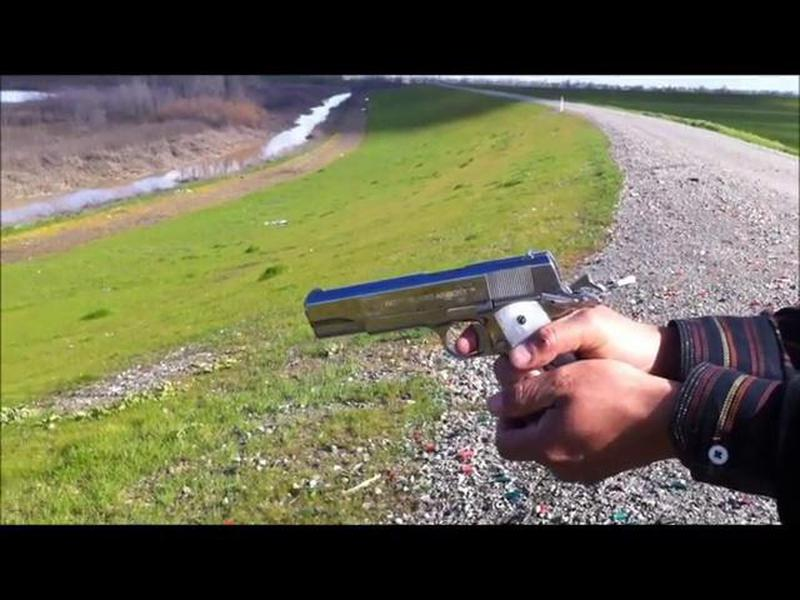Pistola: (288, 252, 623, 389)
